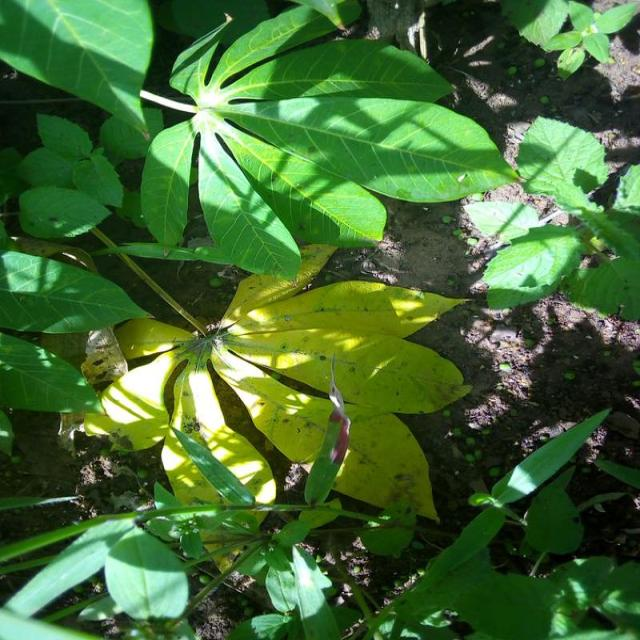cassava leaf: (83, 251, 473, 542), (138, 1, 520, 281)
